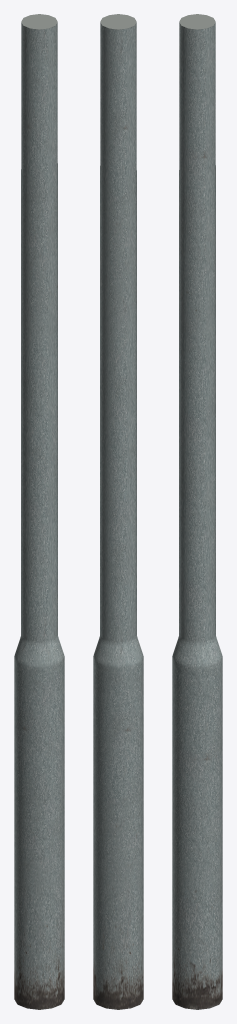
Rendered from Traffic light_Pole_1.FBX.
3 renders of one model, left to right at view 1: azimuth 90°, elevation 25°; view 2: azimuth 150°, elevation 25°; view 3: azimuth 330°, elevation 25°, orthographic.
Visible parts, largest first — view 1: Traffic light_Pole_1; view 2: Traffic light_Pole_1; view 3: Traffic light_Pole_1.
Part boxes in pixels (bbox=[...]): Traffic light_Pole_1: bbox=[14, 14, 64, 1009]; Traffic light_Pole_1: bbox=[93, 14, 143, 1009]; Traffic light_Pole_1: bbox=[172, 14, 222, 1009].
Size of the model in its own units: 0.1368 by 2.9 by 0.1354.
